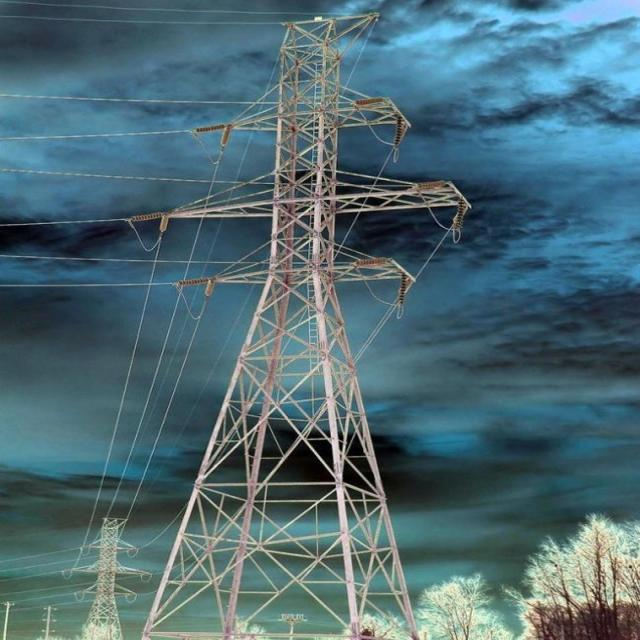non-critical vegetation: (134, 8, 416, 631), (61, 507, 145, 636)
